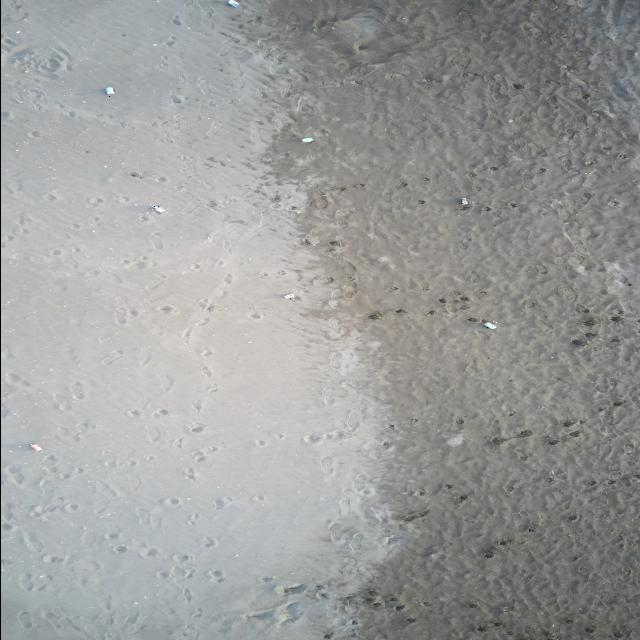Garbage: (447, 433, 463, 446), (151, 203, 164, 213), (103, 85, 114, 96), (367, 311, 382, 319), (28, 442, 42, 449), (227, 0, 239, 7), (283, 292, 295, 299), (301, 136, 313, 143), (484, 320, 495, 327), (460, 197, 467, 207)
